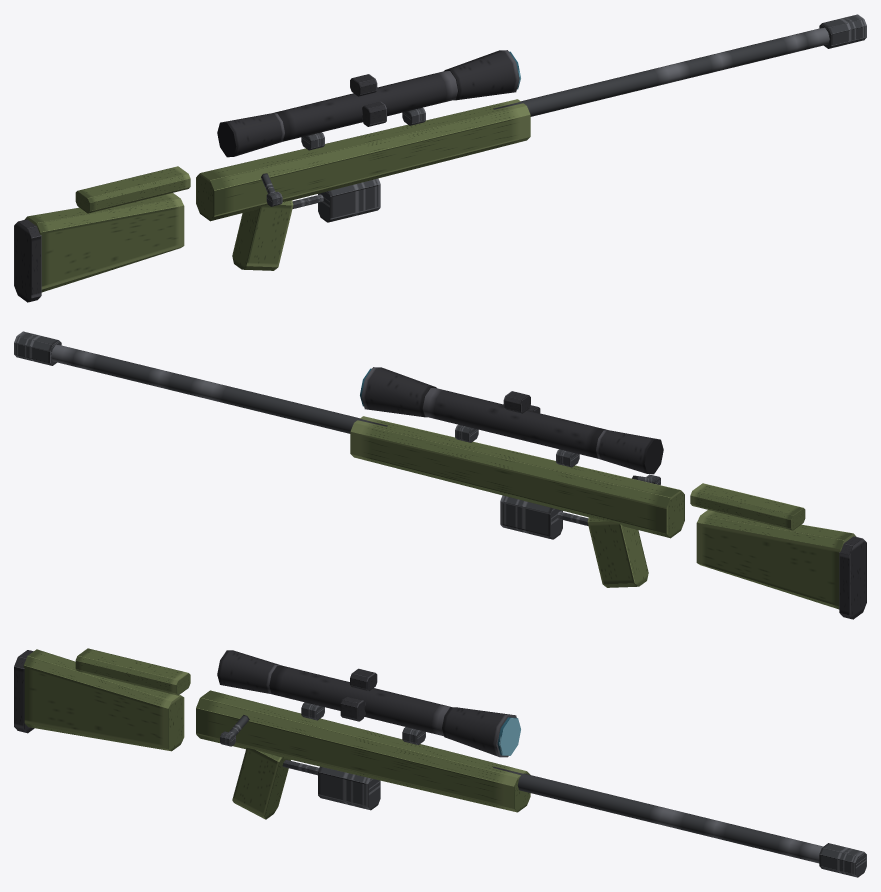
The model's file is AWP_1P.glb.
3 views of the same model, one above another, from view 1: azimuth 30°, elevation 25°; view 2: azimuth 150°, elevation 25°; view 3: azimuth 330°, elevation 25° (orthographic).
Visible parts, largest first — view 1: AWP_1P; view 2: AWP_1P; view 3: AWP_1P.
Boxes of the visible parts, box(x1,y1,x2,y2) form: AWP_1P: box(14, 14, 866, 302); AWP_1P: box(14, 331, 866, 619); AWP_1P: box(14, 648, 866, 877).
Bounding box in the file's own units: 1.16 × 0.2208 × 0.091.
Materials: 1 (1 with a texture image).
